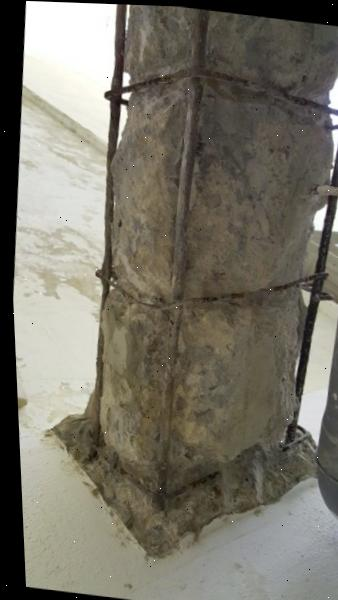exposed_rebar: (157, 9, 207, 492), (84, 4, 127, 440), (285, 144, 338, 445)
spalling: (50, 4, 338, 560)
